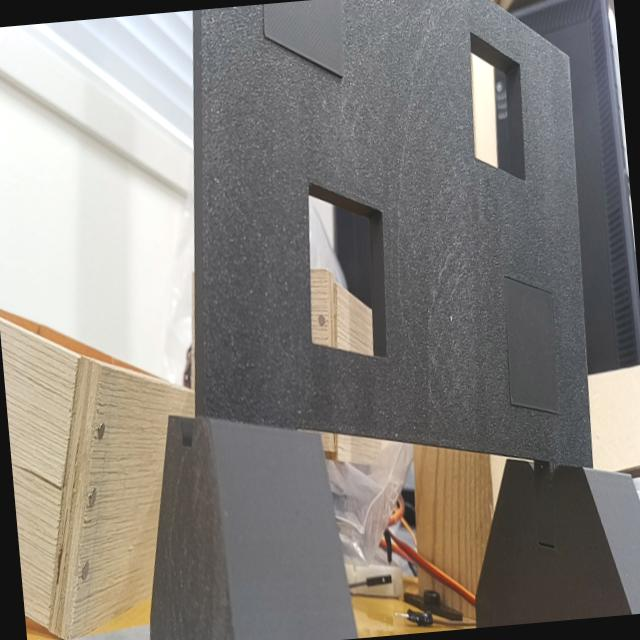Obstacle: (309, 183, 387, 358), (470, 33, 525, 179)
Wall: (193, 0, 591, 466)
